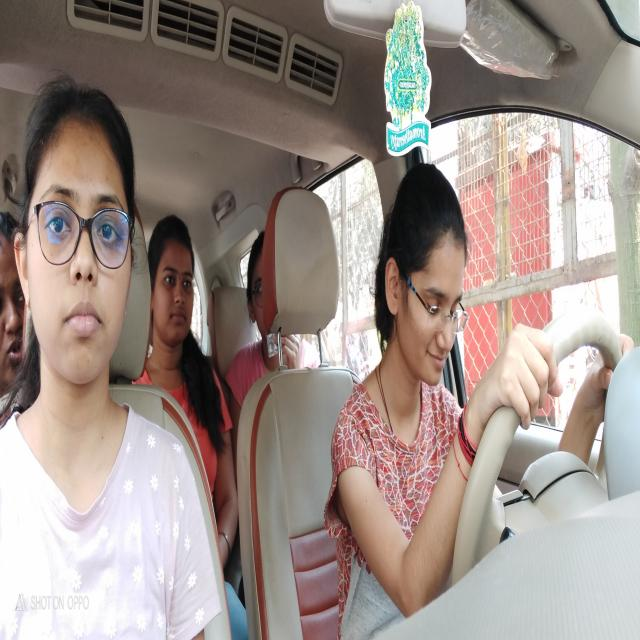drowsy: (376, 159, 467, 391)
person: (19, 82, 143, 394), (149, 203, 199, 376), (0, 197, 33, 414), (246, 226, 282, 362)
